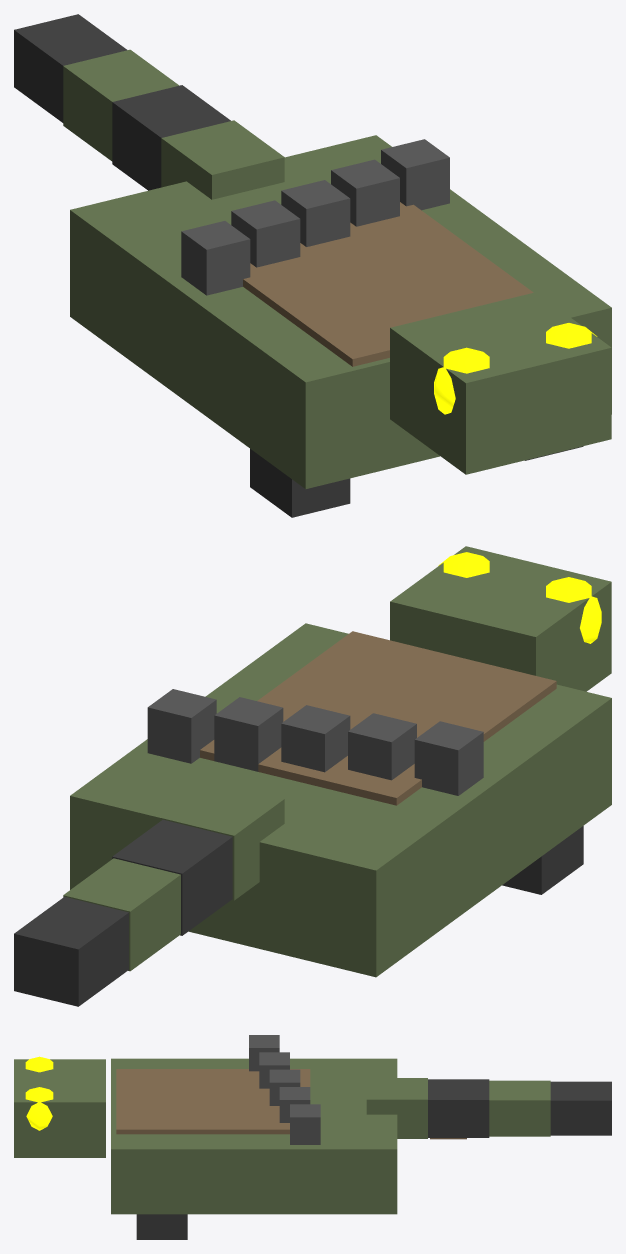
Rendered from SoilBasiliskA.glb.
The picture shows the model from 3 angles, top to bottom: view 1: azimuth 30°, elevation 25°; view 2: azimuth 150°, elevation 25°; view 3: azimuth 270°, elevation 25°; orthographic projection. The views are drawn at different scales.
Parts seen in each view (by area): view 1: SoilBasiliskBody; view 2: SoilBasiliskBody; view 3: SoilBasiliskBody.
Boxes of the visible parts, x1=… form: SoilBasiliskBody: x1=14, y1=14, x2=611, y2=517; SoilBasiliskBody: x1=14, y1=546, x2=611, y2=1006; SoilBasiliskBody: x1=14, y1=1035, x2=611, y2=1239.
Bounding box in the file's own units: 0.42 × 0.265 × 1.17.
